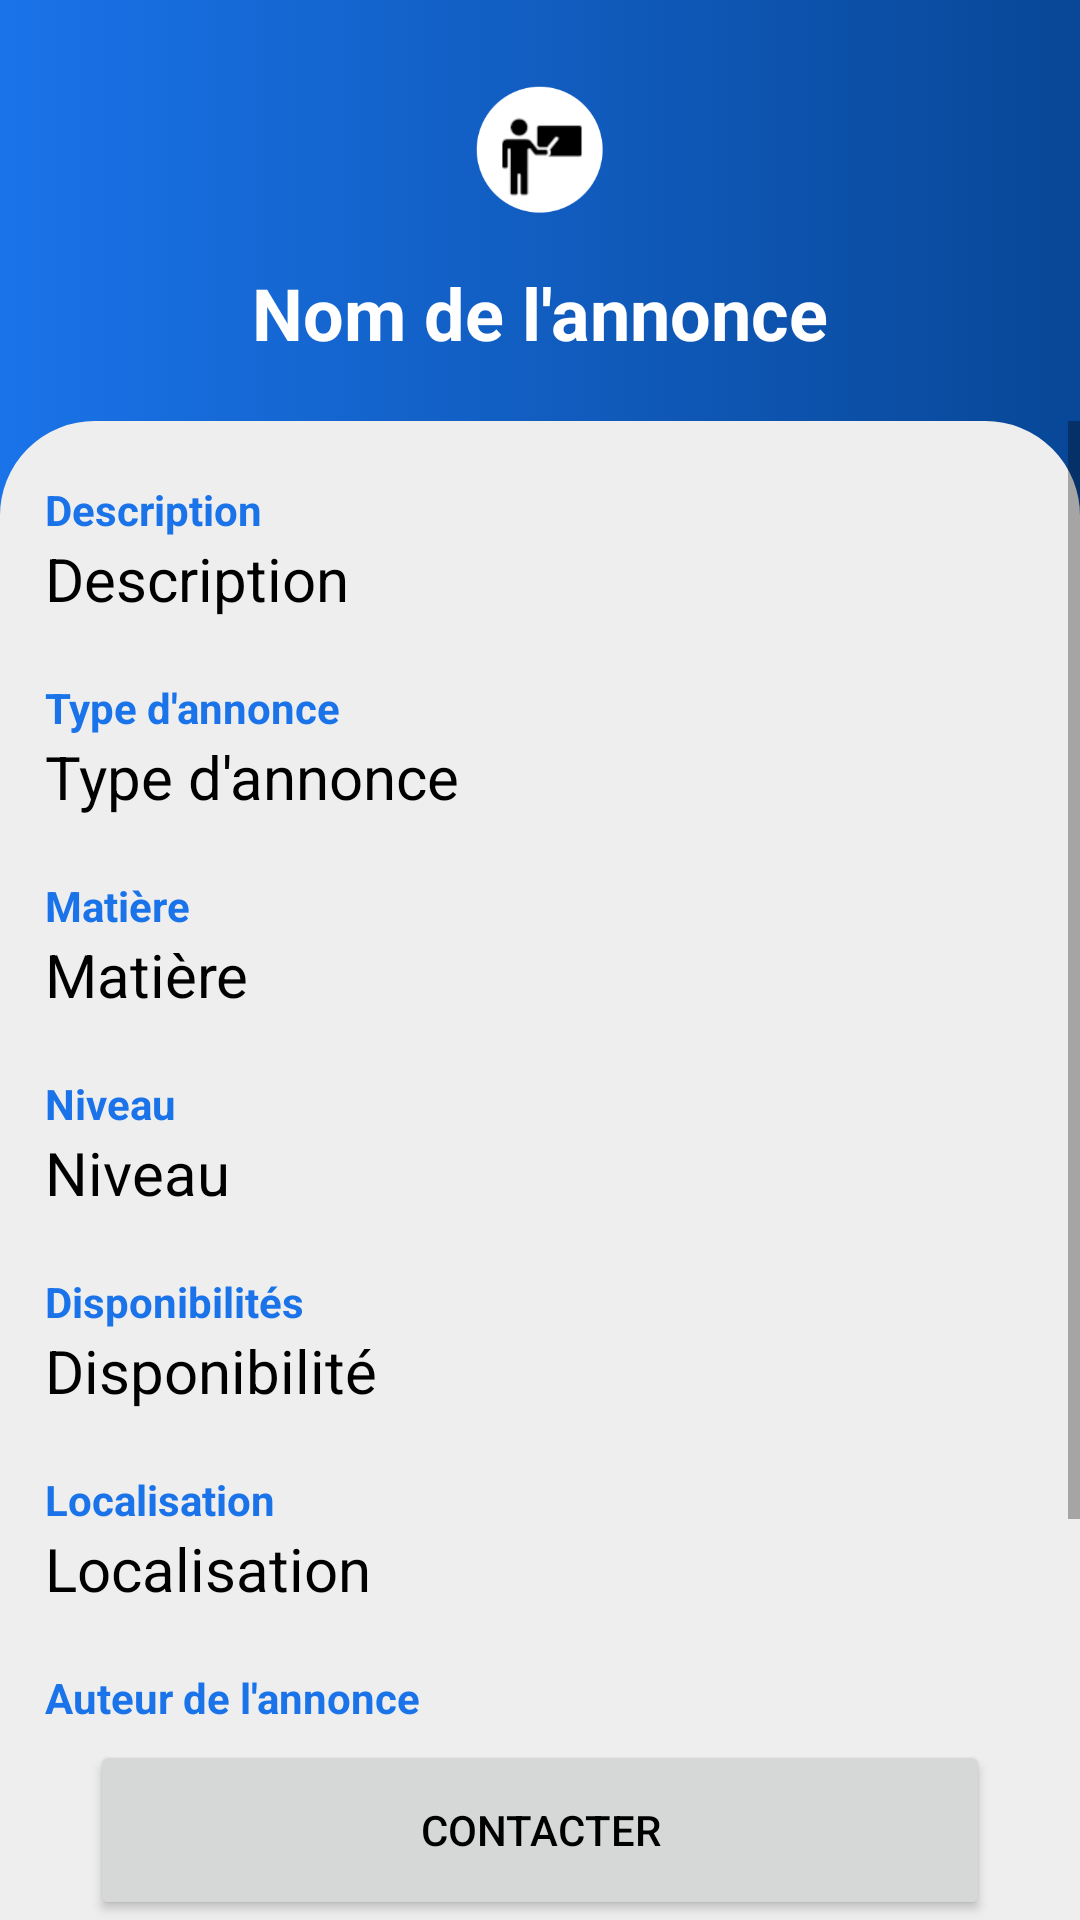

Screen size 1080 × 1920. Icon name, then its box in pixels as (x1, y1, x2, y2):
Proposition de tutorat: (476, 86, 603, 213)
